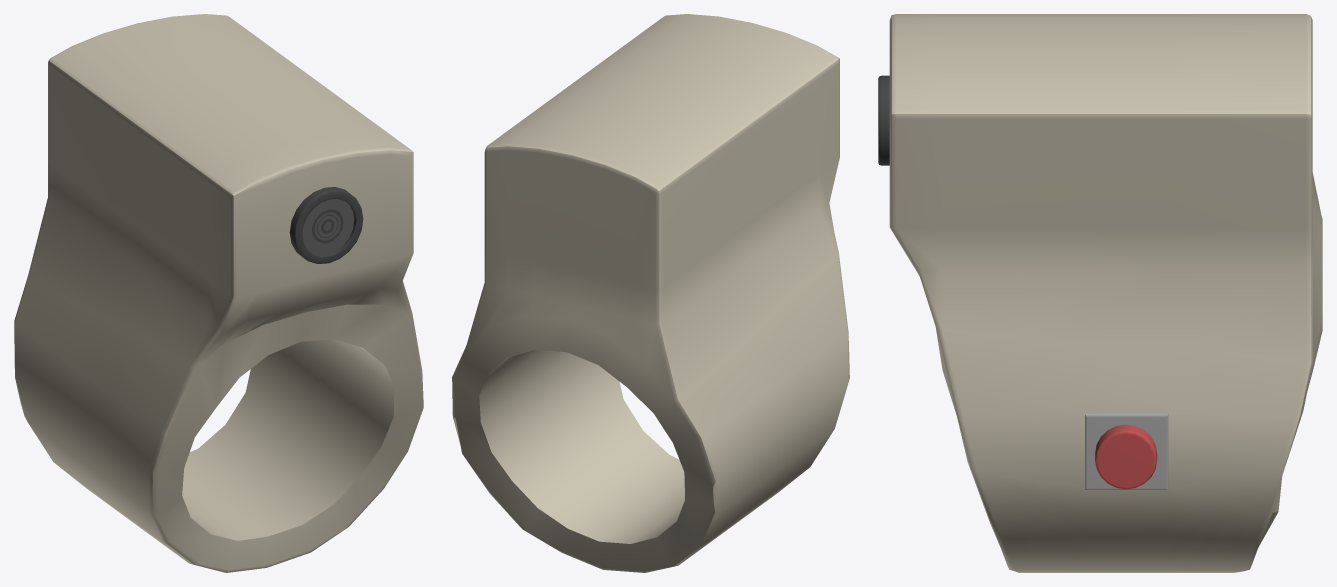
File: eyeRing.fbx
3 renders of one model, left to right at view 1: azimuth 30°, elevation 25°; view 2: azimuth 150°, elevation 25°; view 3: azimuth 270°, elevation 25°, orthographic. The views are drawn at different scales.
Visible parts, largest first — view 1: pPipe1, pCylinder1; view 2: pPipe1; view 3: pPipe1, pCylinder2, pCylinder1.
Boxes of the visible parts, x1,y1,x2,y2 form: pPipe1: (14, 14, 423, 572); pCylinder1: (289, 187, 363, 263); pPipe1: (452, 14, 849, 572); pPipe1: (889, 14, 1322, 572); pCylinder2: (1095, 424, 1157, 489); pCylinder1: (878, 75, 889, 165).
Bounding box in the file's own units: 3.25 × 4.75 × 3.75.
